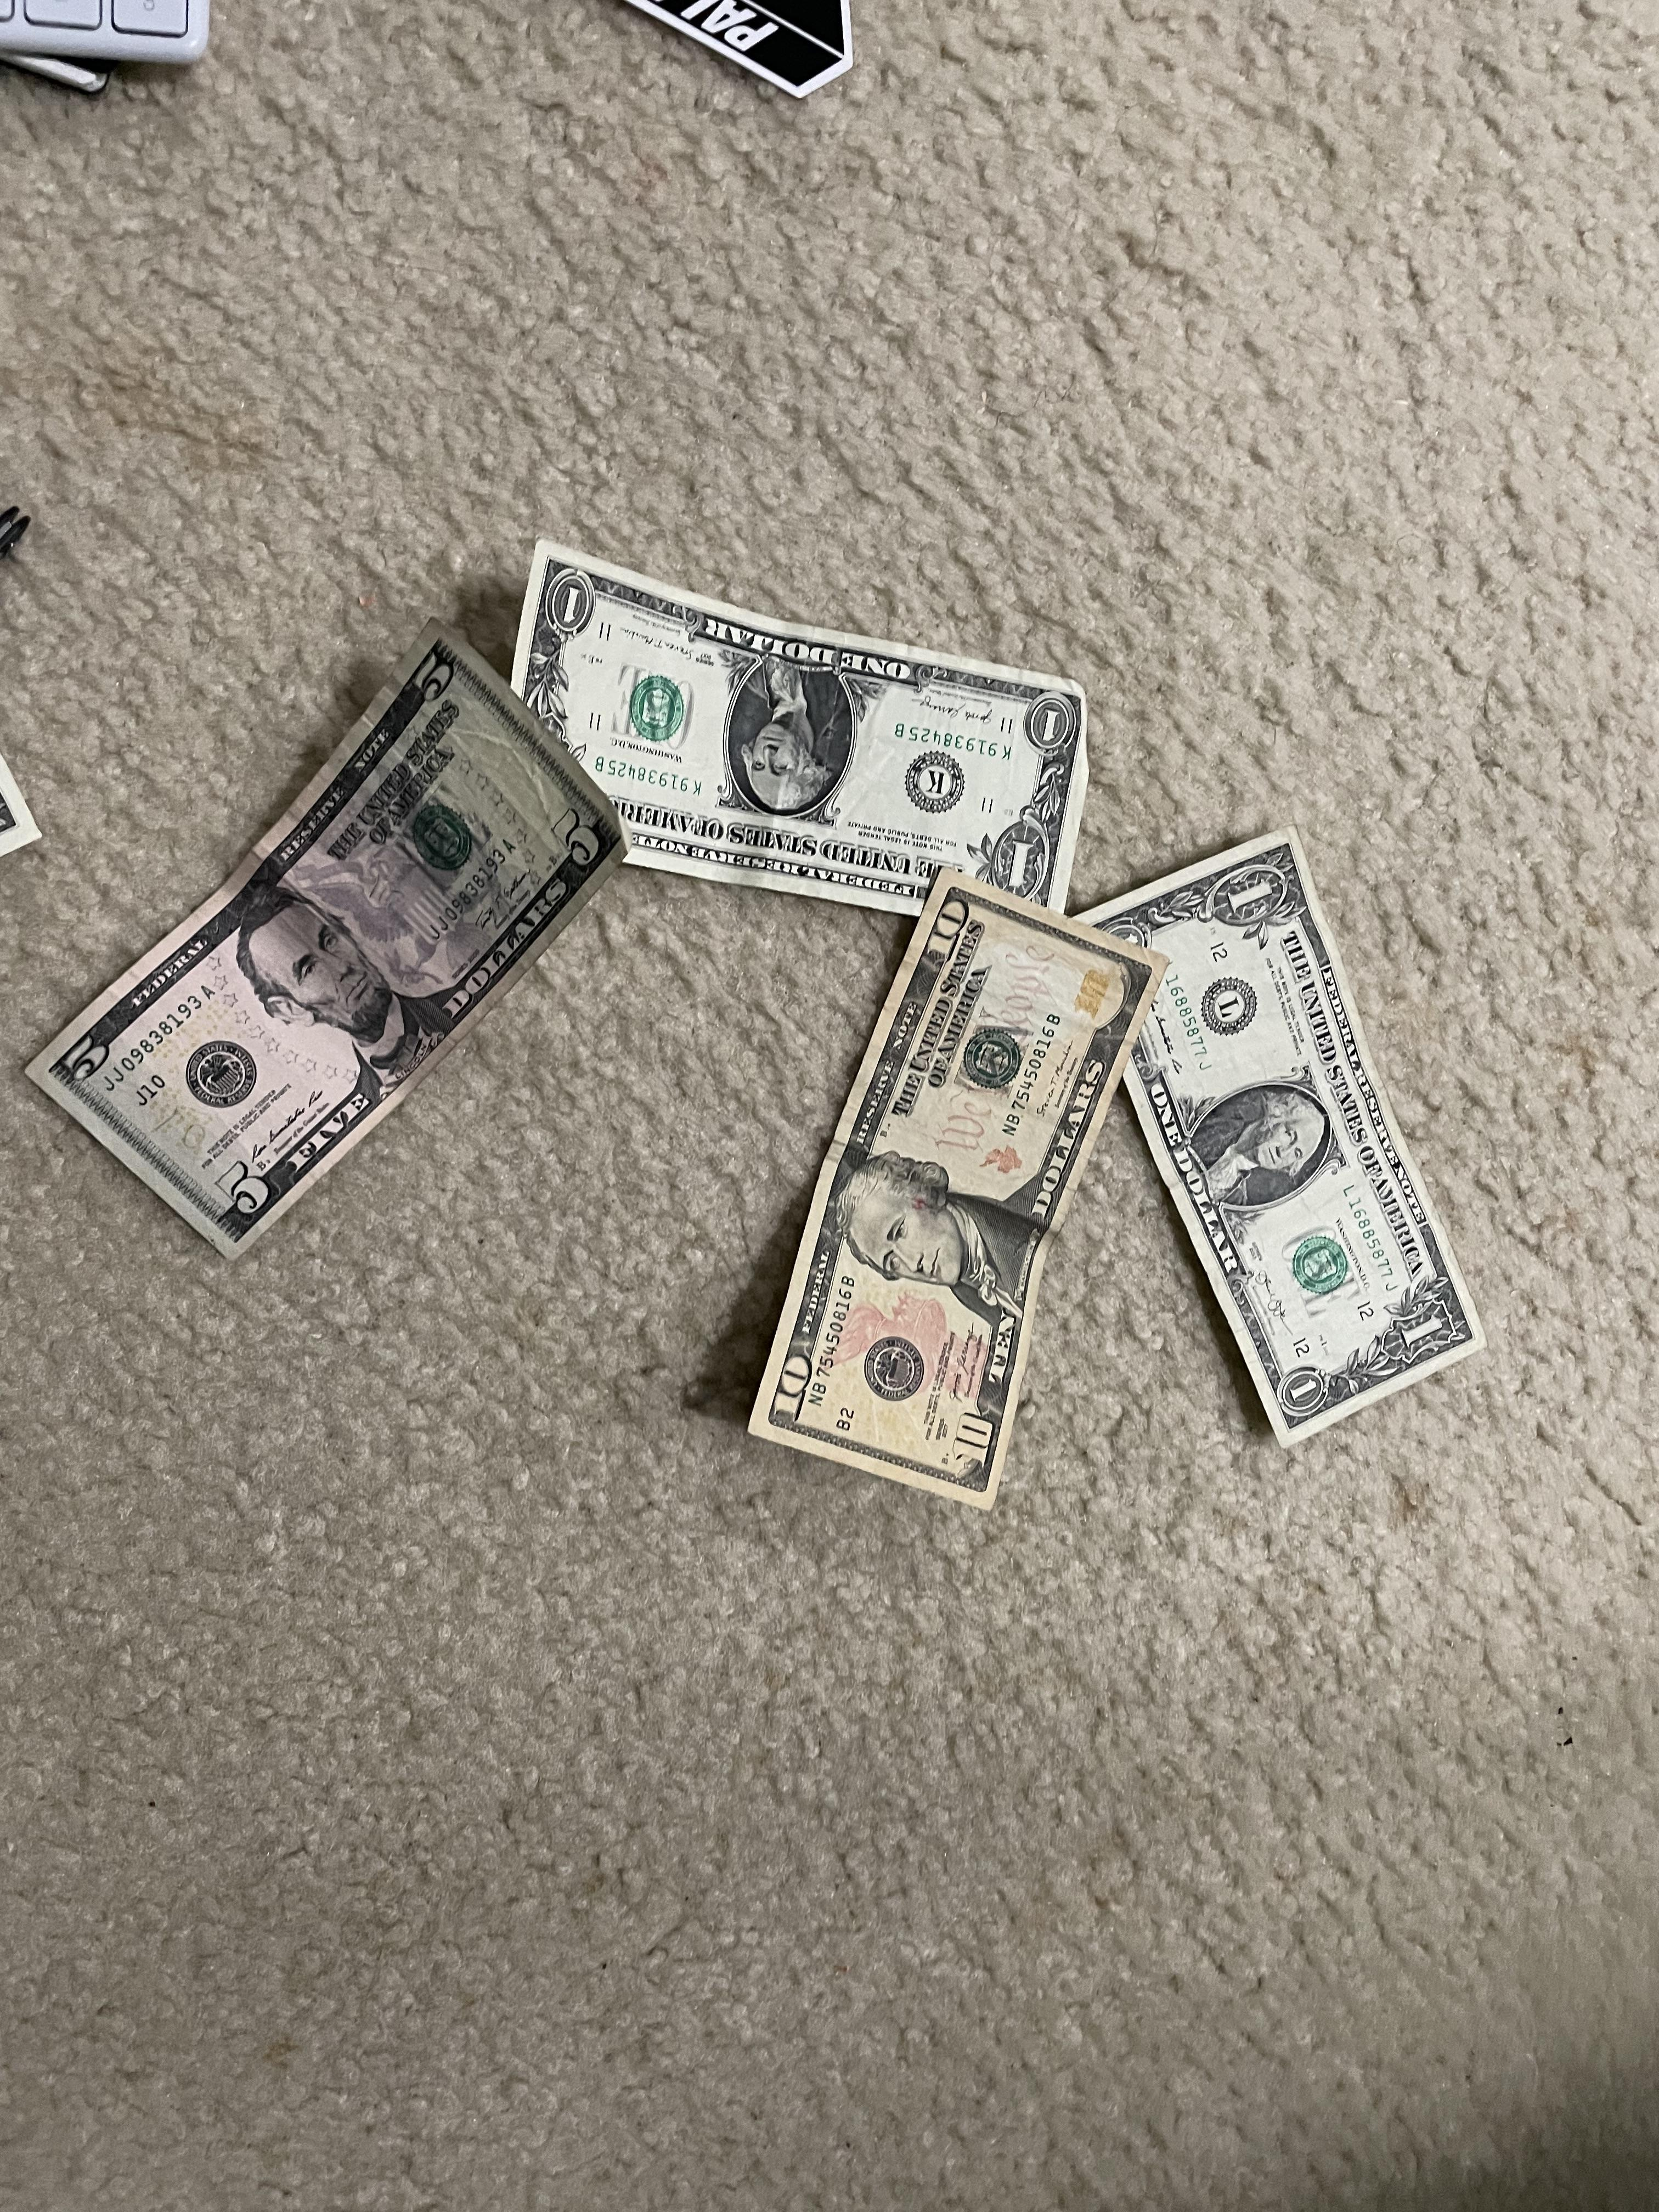FiveBill: (37, 624, 631, 1259)
OneBill: (1080, 824, 1486, 1433), (518, 540, 1096, 928)
TenBill: (746, 873, 1162, 1510)
